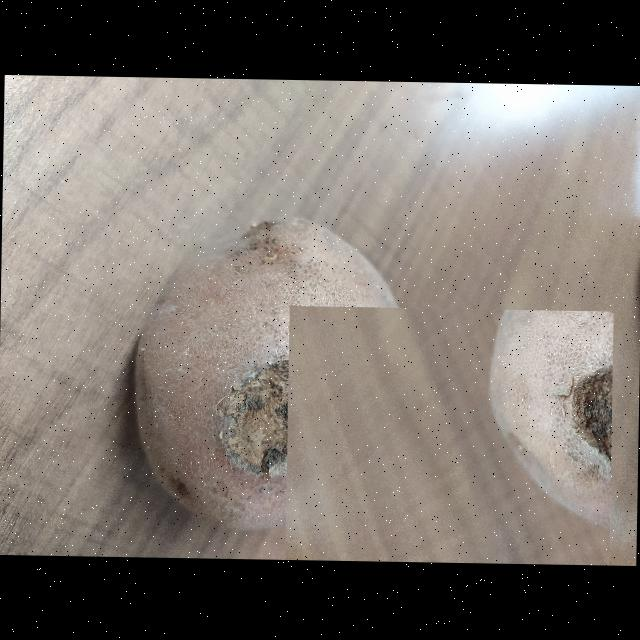Damaged potato: (284, 306, 613, 602)
